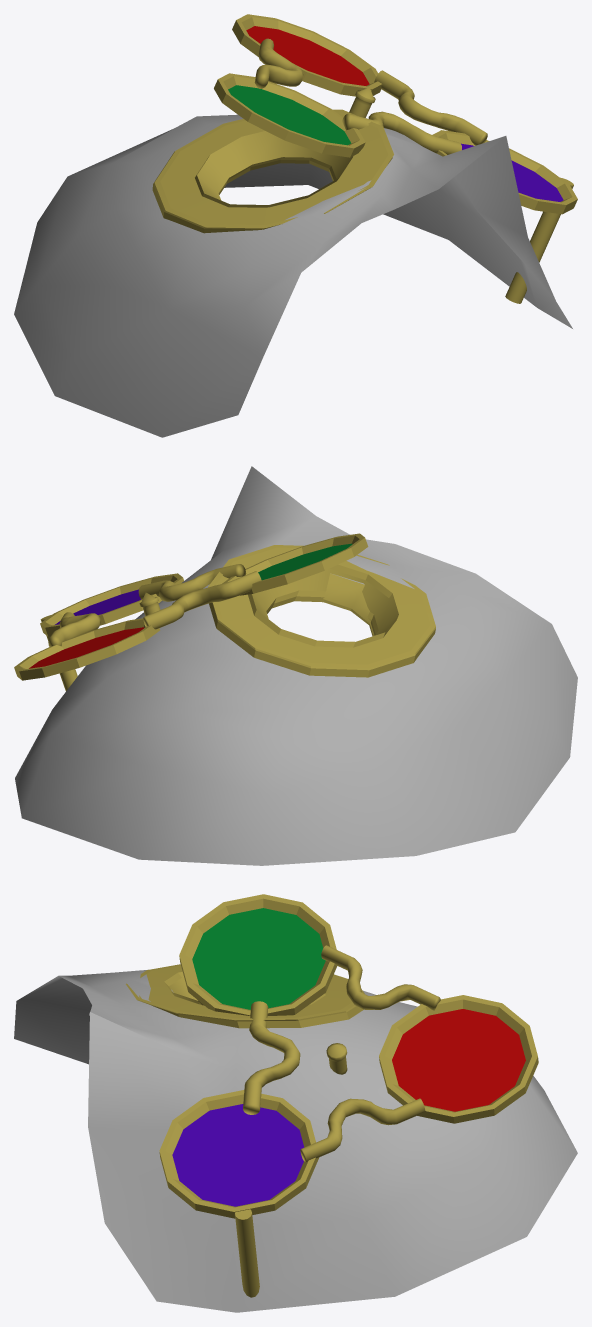
The model's file is Mask.fbx.
3 renders of one model, top to bottom at view 1: azimuth 30°, elevation 25°; view 2: azimuth 150°, elevation 25°; view 3: azimuth 270°, elevation 25°, orthographic. The views are drawn at different scales.
Visible parts, largest first — view 1: Mask1; view 2: Mask1; view 3: Mask1.
Part boxes in pixels (bbox=[...]): Mask1: bbox=[14, 14, 577, 437]; Mask1: bbox=[14, 466, 577, 865]; Mask1: bbox=[14, 894, 577, 1312].
Size of the model in its own units: 17.48 by 9.09 by 16.92.
